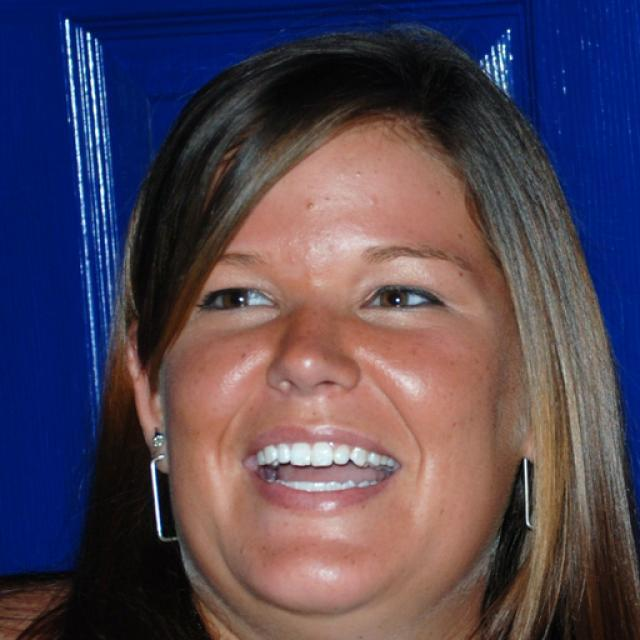happy: (160, 125, 524, 618)
